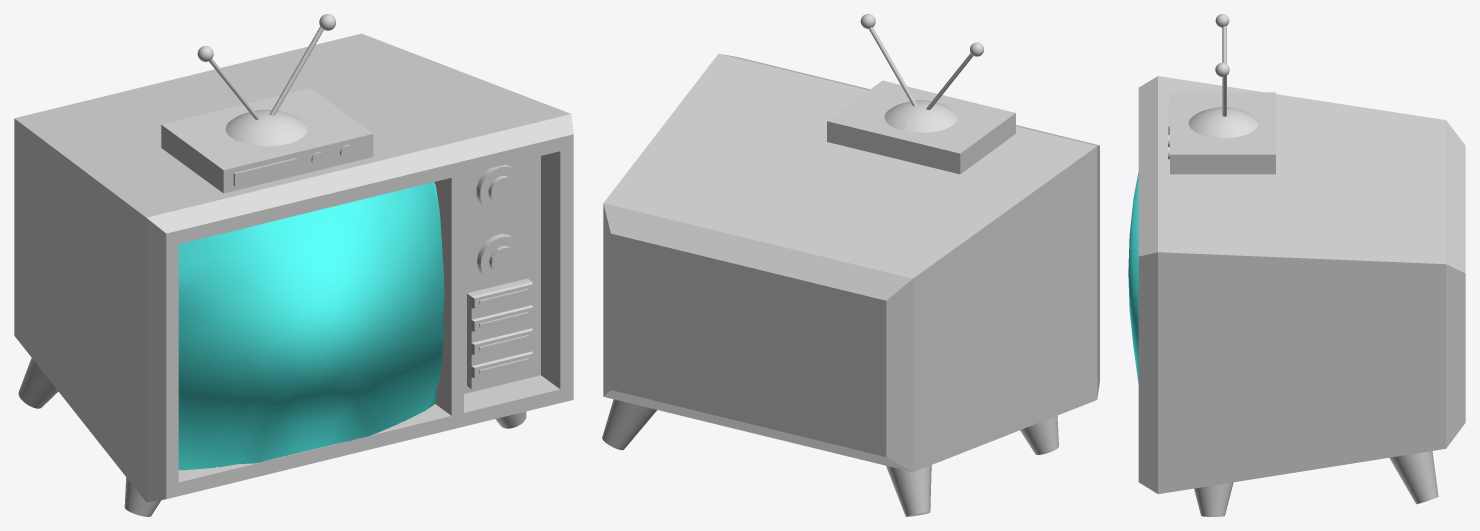
The picture shows the model from 3 angles, left to right: view 1: azimuth 30°, elevation 25°; view 2: azimuth 150°, elevation 25°; view 3: azimuth 270°, elevation 25°; orthographic projection. The views are drawn at different scales.
Visible parts, largest first — view 1: Bbox001, screen, Bbox002, Bbox003, Bbox007, Ssphere002, Cones4, Ccylinder007, Ccylinder005, Bbox006, Cones2; view 2: Bbox001, Bbox002, Bbox003, Ssphere002, Cones4, Cones1, Cones2; view 3: Bbox002, Bbox001, Bbox003, Cones1, Ssphere002, screen, Cones.
Boxes of the visible parts, box(x1,y1,x2,y2) form: Bbox001: box(14, 60, 463, 502); screen: box(178, 182, 444, 470); Bbox002: box(158, 33, 573, 461); Bbox003: box(161, 88, 373, 193); Bbox007: box(467, 278, 532, 389); Ssphere002: box(225, 109, 307, 146); Cones4: box(18, 358, 58, 408); Ccylinder007: box(477, 234, 522, 281); Ccylinder005: box(476, 164, 521, 211); Bbox006: box(233, 158, 296, 186); Cones2: box(124, 477, 161, 516); Bbox001: box(699, 79, 1099, 472); Bbox002: box(603, 53, 884, 425); Bbox003: box(827, 80, 1015, 174); Ssphere002: box(884, 100, 957, 132); Cones4: box(886, 465, 931, 516); Cones1: box(602, 399, 656, 450); Cones2: box(1020, 415, 1058, 454); Bbox002: box(1138, 141, 1465, 494); Bbox001: box(1138, 76, 1465, 229); Bbox003: box(1170, 92, 1275, 174); Cones1: box(1389, 451, 1438, 504); Ssphere002: box(1188, 107, 1258, 138); screen: box(1128, 172, 1138, 383); Cones: box(1194, 482, 1233, 516).
Size of the model in its own units: 93.57 by 94.55 by 75.69.
